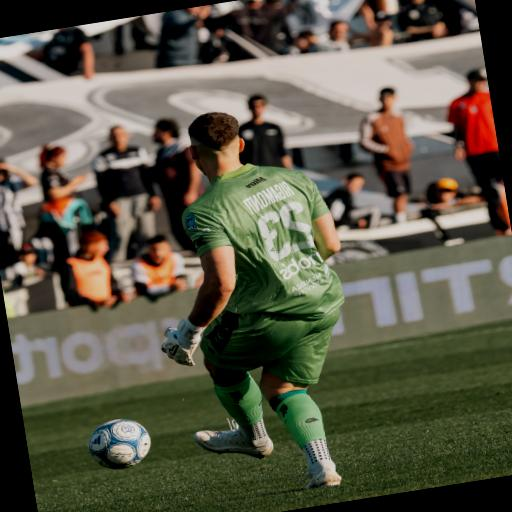shoe: (193, 421, 272, 458), (303, 468, 341, 489)
